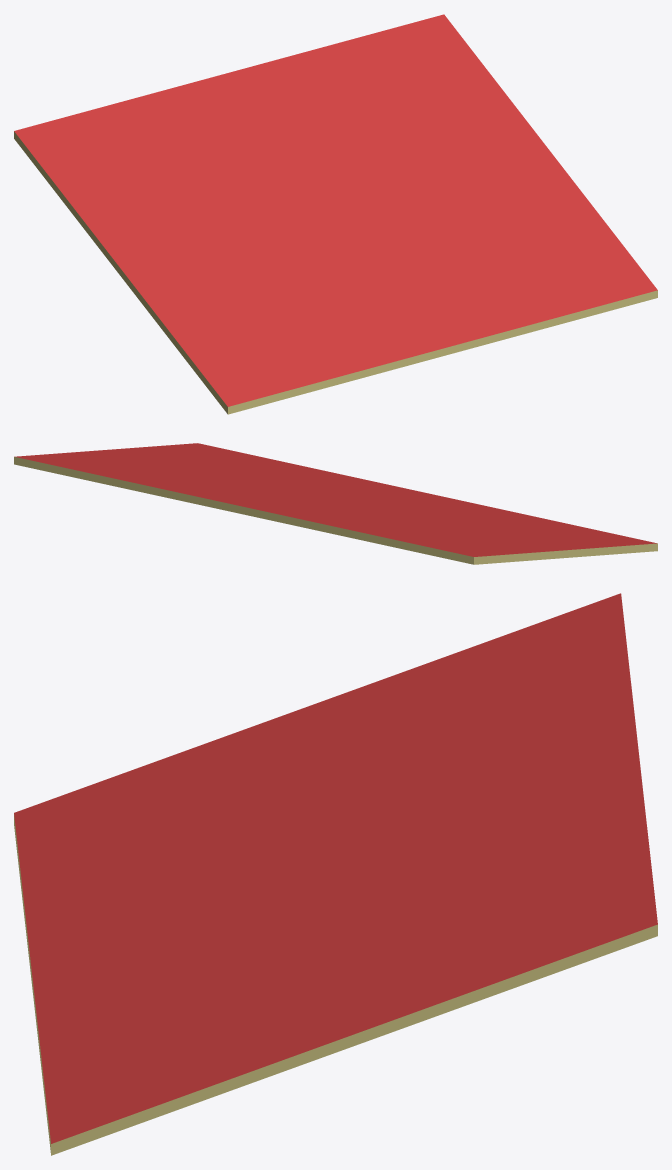
The picture shows the model from 3 angles, top to bottom: view 1: azimuth 30°, elevation 25°; view 2: azimuth 150°, elevation 25°; view 3: azimuth 270°, elevation 25°; orthographic projection. The views are drawn at different scales.
Size of the model in its own units: 6.28 by 4.98 by 1.87.
